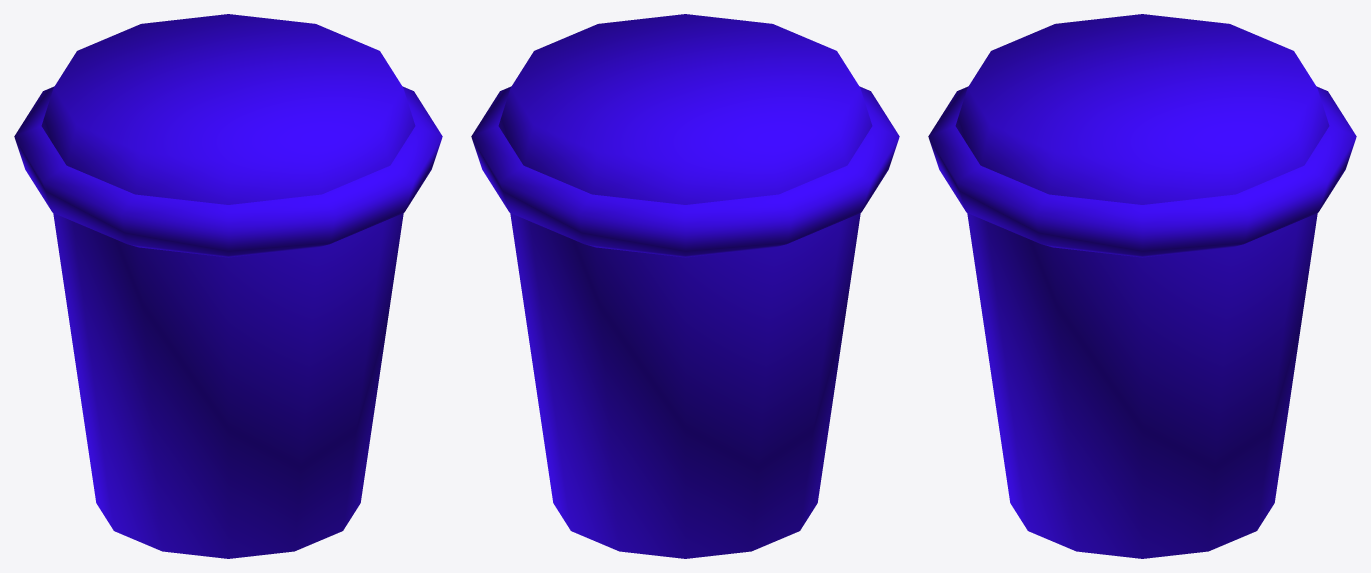
File: office_pack_mug_cardboard_1_meshCollider.fbx
The picture shows the model from 3 angles, left to right: view 1: azimuth 30°, elevation 25°; view 2: azimuth 150°, elevation 25°; view 3: azimuth 270°, elevation 25°; orthographic projection.
Parts seen in each view (by area): view 1: office_pack_mug_cardboard_1_meshCollider; view 2: office_pack_mug_cardboard_1_meshCollider; view 3: office_pack_mug_cardboard_1_meshCollider.
Part boxes in pixels (x1,y1,x2,y2): office_pack_mug_cardboard_1_meshCollider: (14,14,442,558); office_pack_mug_cardboard_1_meshCollider: (471,14,899,558); office_pack_mug_cardboard_1_meshCollider: (928,14,1356,558).
Bounding box in the file's own units: 8.61 × 9.21 × 8.61.
